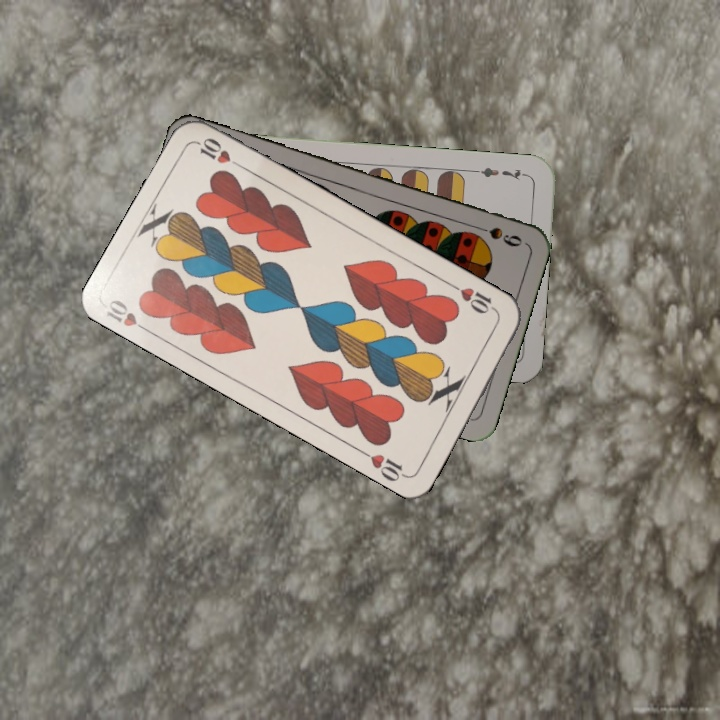E7: (471, 163, 530, 184)
H10: (102, 295, 155, 337), (447, 280, 501, 317)
S9: (468, 220, 525, 250)
